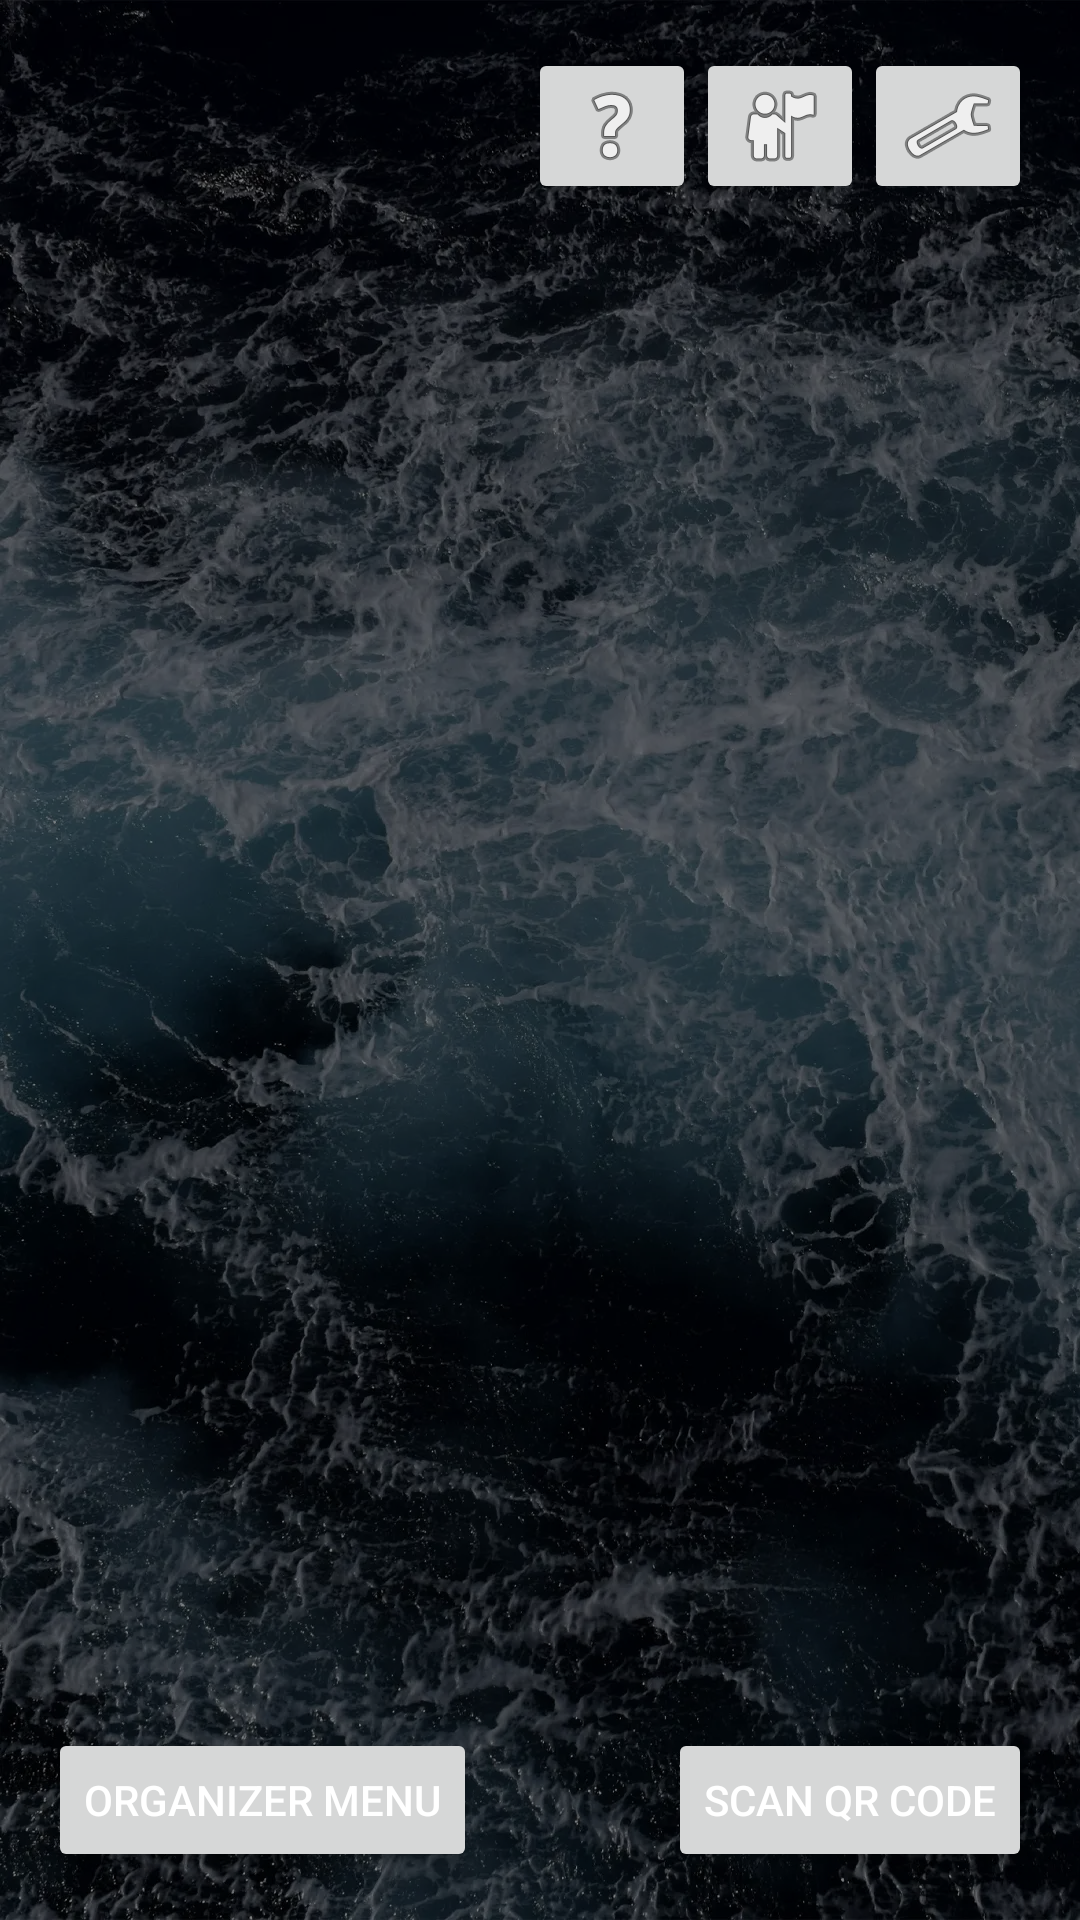

Screen size 1080 x 1920. Icon name, then its center in pixels as (x,y):
help: (612,127)
myplaces: (779,126)
preferences: (948,126)
